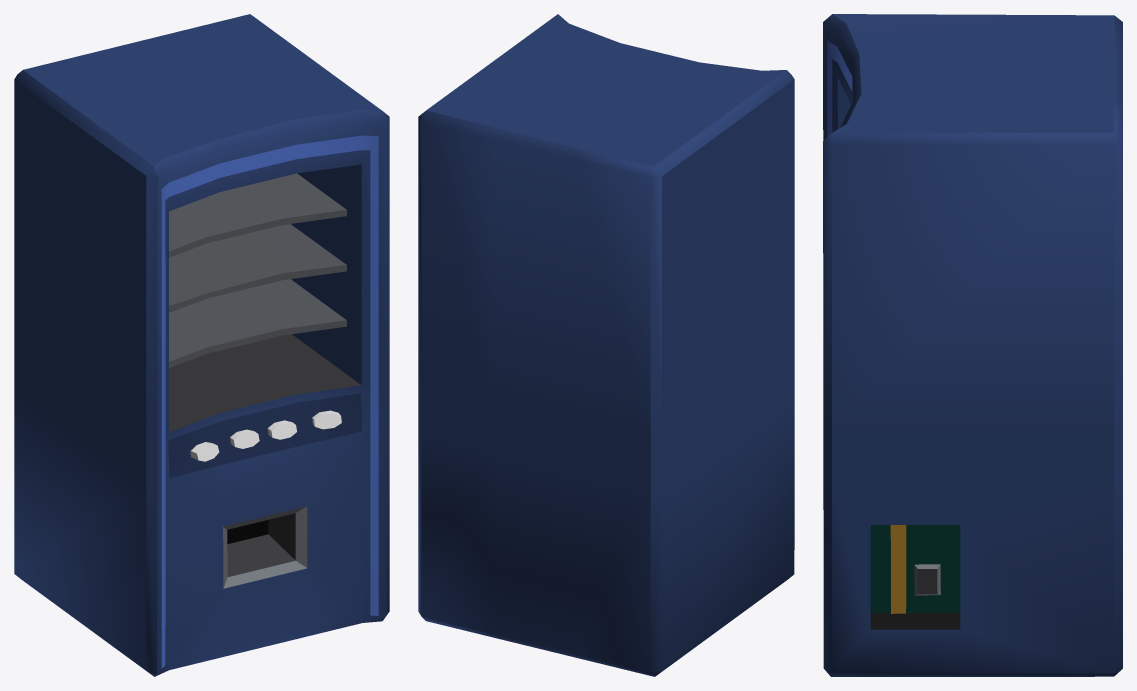
Rendered from Vendomat.glb.
The picture shows the model from 3 angles, left to right: view 1: azimuth 30°, elevation 25°; view 2: azimuth 150°, elevation 25°; view 3: azimuth 270°, elevation 25°; orthographic projection. The views are drawn at different scales.
Visible parts, largest first — view 1: Vendomat; view 2: Vendomat; view 3: Vendomat.
Boxes of the visible parts, box(x1,y1,x2,y2) form: Vendomat: box(14, 14, 389, 676); Vendomat: box(418, 14, 794, 676); Vendomat: box(823, 14, 1122, 676).
Bounding box in the file's own units: 0.9003 × 1.8 × 0.9.
Materials: 2 (1 with a texture image).
